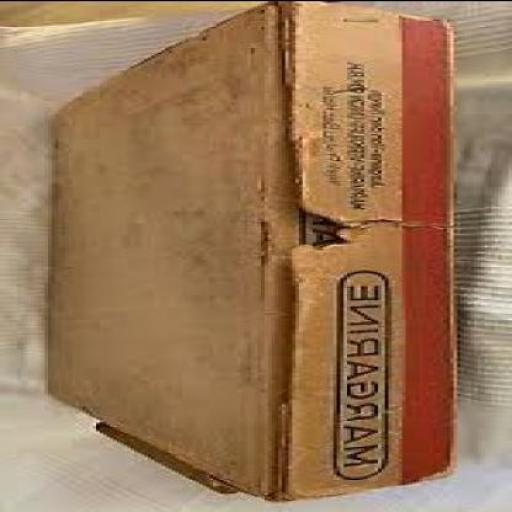cardboard: (45, 2, 463, 504)
